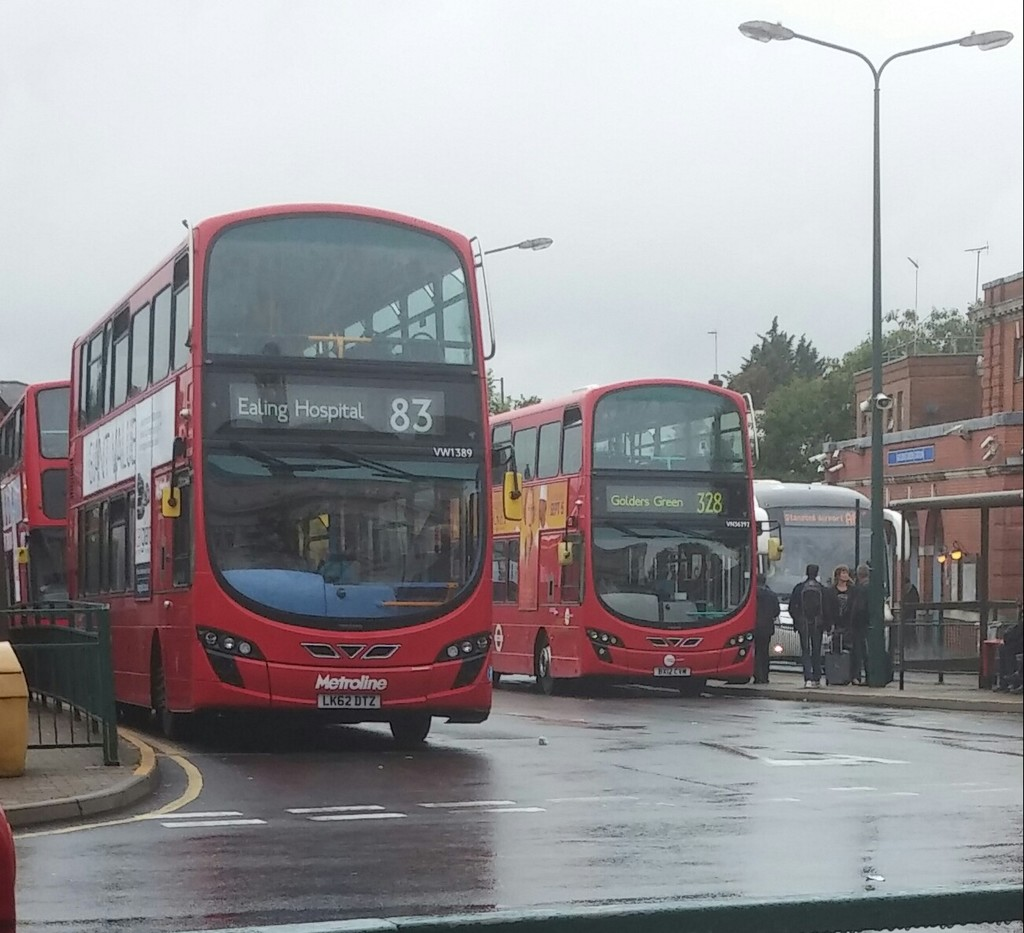Bus: (68, 204, 521, 748), (489, 376, 785, 697), (753, 479, 910, 662), (0, 379, 70, 626)
